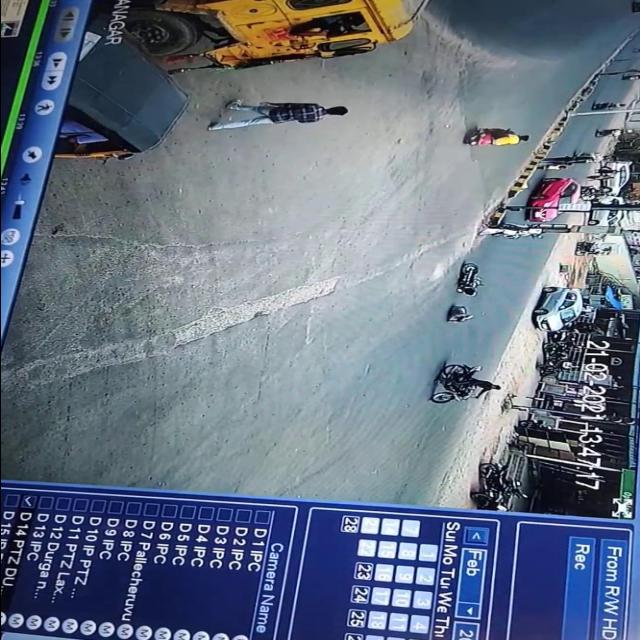accident: (429, 257, 495, 328)
